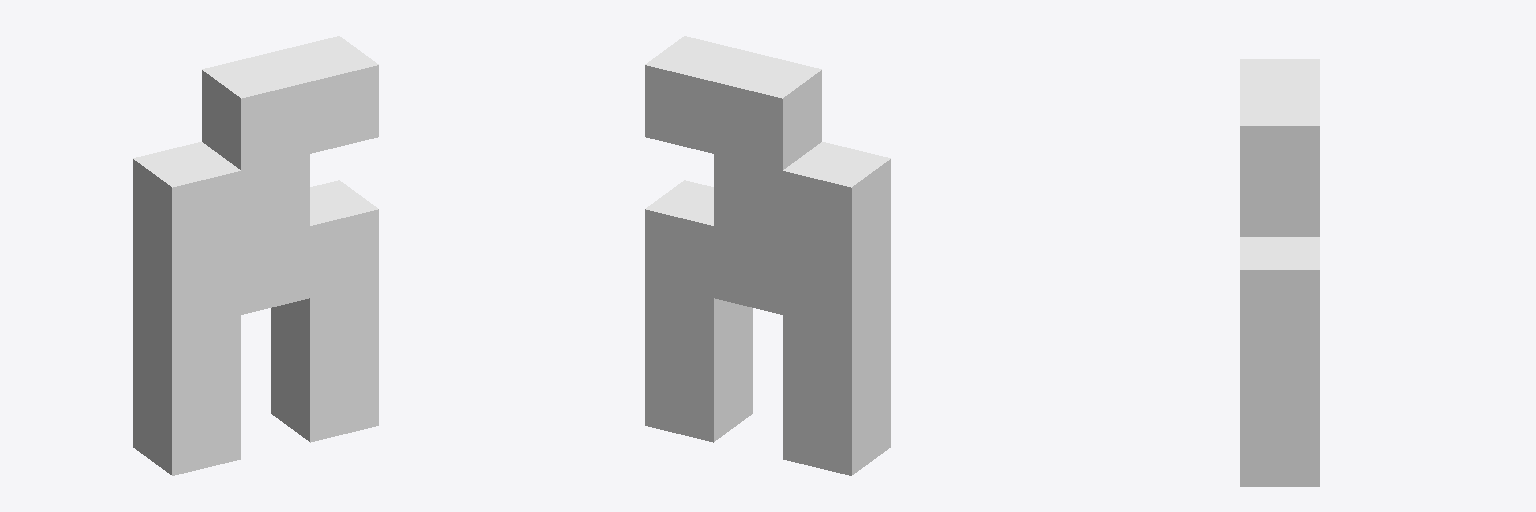
The model's file is YellowHouseParts-52.obj.
3 renders of one model, left to right at view 1: azimuth 30°, elevation 25°; view 2: azimuth 150°, elevation 25°; view 3: azimuth 270°, elevation 25°, orthographic.
Parts seen in each view (by area): view 1: object 1; view 2: object 1; view 3: object 1.
Boxes of the visible parts, <box> form: object 1: <box>133,36,378,475</box>; object 1: <box>645,36,890,475</box>; object 1: <box>1240,59,1319,486</box>.
Bounding box in the file's own units: 0.3 × 0.5 × 0.1.